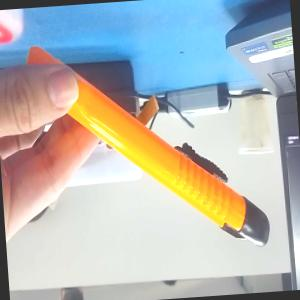estilete: (25, 31, 272, 262)
